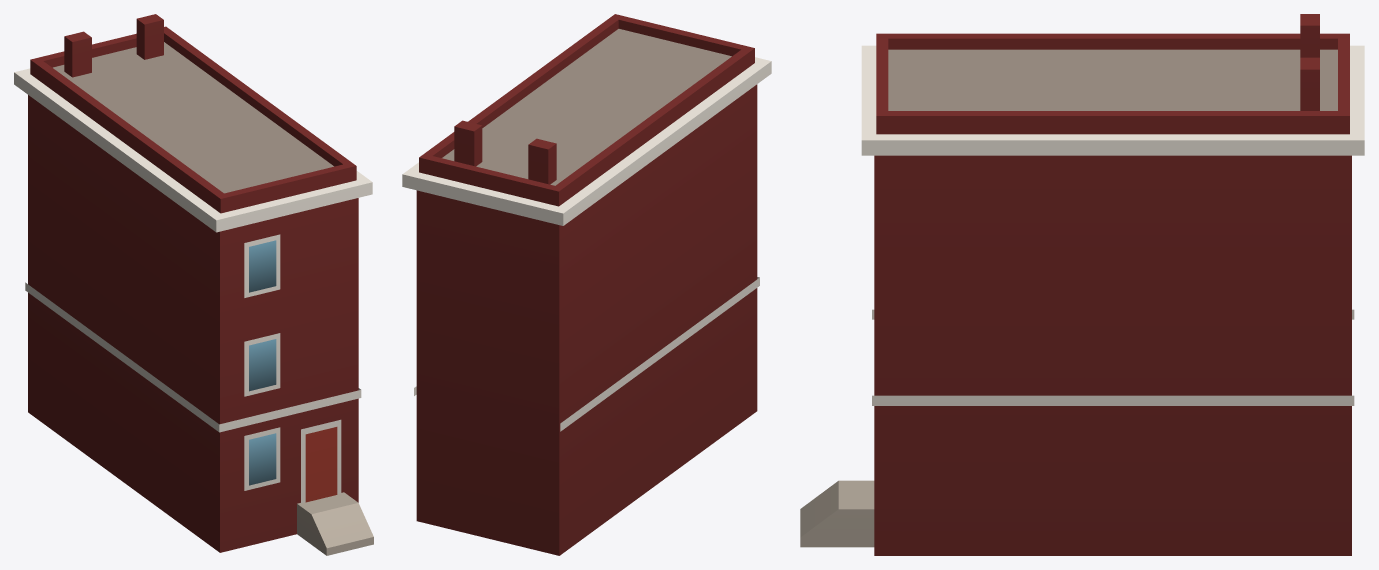
The model's file is beacon_n17_far.glb.
3 views of the same model, side by side, from view 1: azimuth 30°, elevation 25°; view 2: azimuth 150°, elevation 25°; view 3: azimuth 270°, elevation 25° (orthographic). The views are drawn at different scales.
Visible parts, largest first — view 1: beacon_n17_far; view 2: beacon_n17_far; view 3: beacon_n17_far.
Boxes of the visible parts, box(x1,y1,x2,y2) form: beacon_n17_far: box(14, 14, 373, 555); beacon_n17_far: box(402, 14, 771, 555); beacon_n17_far: box(800, 14, 1364, 555).
Bounding box in the file's own units: 5.64 × 13.09 × 14.18.
Materials: 1 (1 with a texture image).
